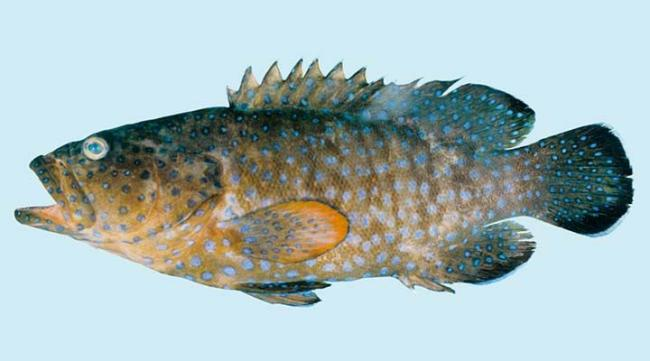fish: (14, 59, 635, 307)
